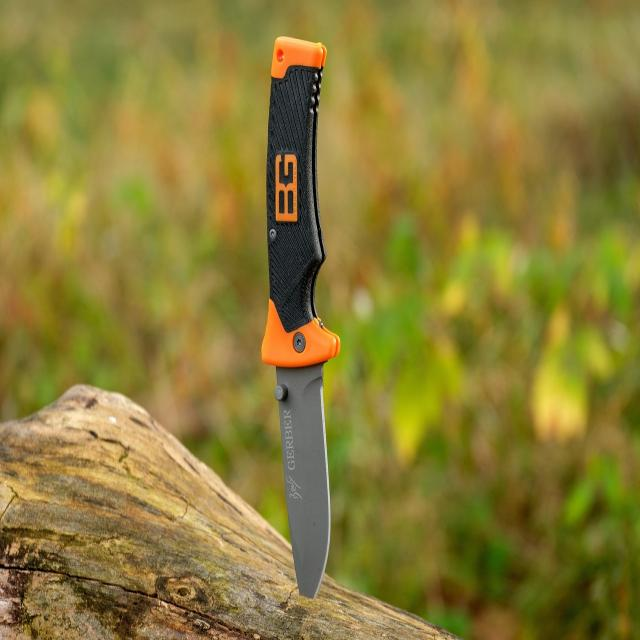Knife: (262, 37, 340, 597)
